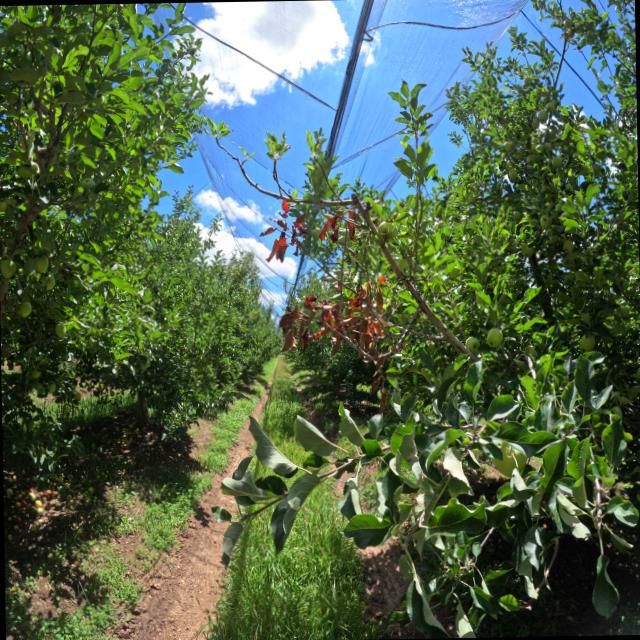-FireBlight-: (274, 274, 400, 358), (256, 202, 308, 264), (320, 208, 364, 245)
